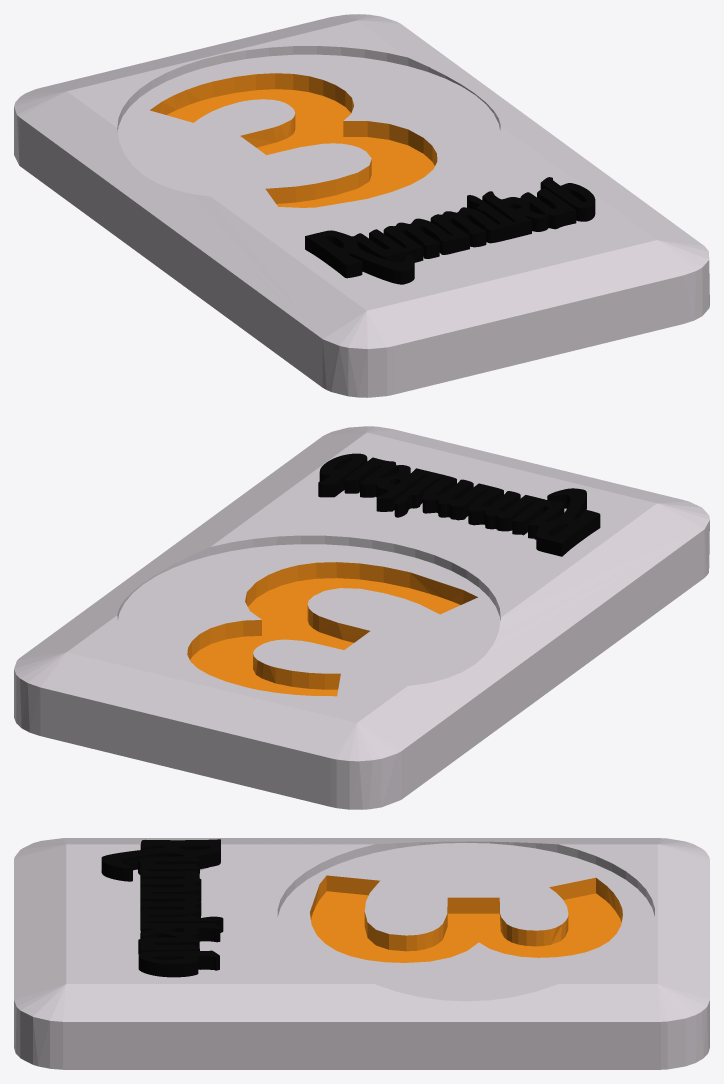
3 renders of one model, top to bottom at view 1: azimuth 30°, elevation 25°; view 2: azimuth 150°, elevation 25°; view 3: azimuth 270°, elevation 25°, orthographic.
Visible parts, largest first — view 1: Rummikub 3 Fixed.001; view 2: Rummikub 3 Fixed.001; view 3: Rummikub 3 Fixed.001.
Part boxes in pixels (left/top/right/bottom): Rummikub 3 Fixed.001: left=14, top=14, right=709, bottom=397; Rummikub 3 Fixed.001: left=14, top=426, right=709, bottom=809; Rummikub 3 Fixed.001: left=14, top=838, right=709, bottom=1069.
Bounding box in the file's own units: 2499 × 487 × 4000.
